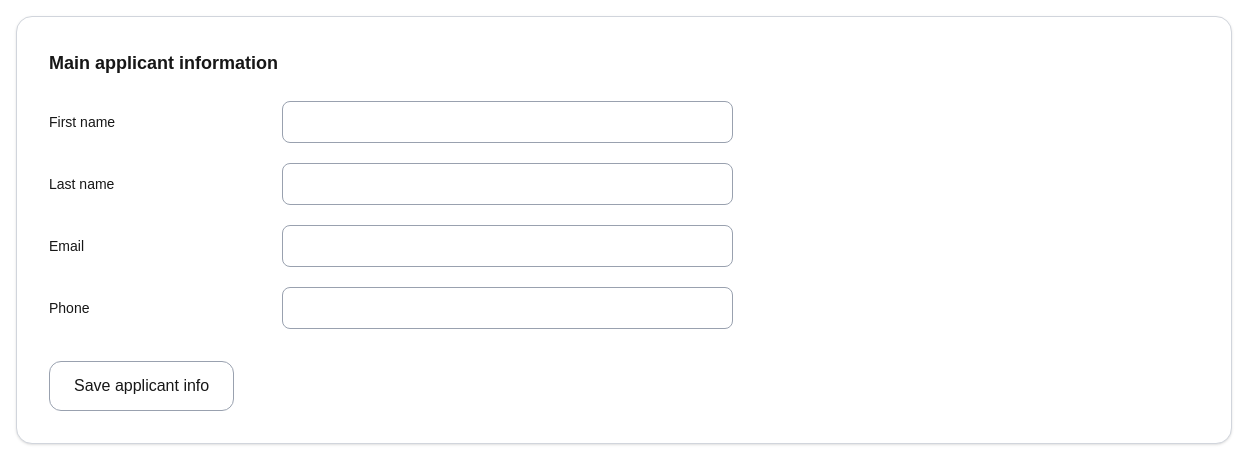
Test case: Forum component › shows validation errors when submitting empty form
Click the button "Save applicant info" at (142, 386), box [49,361,234,411]
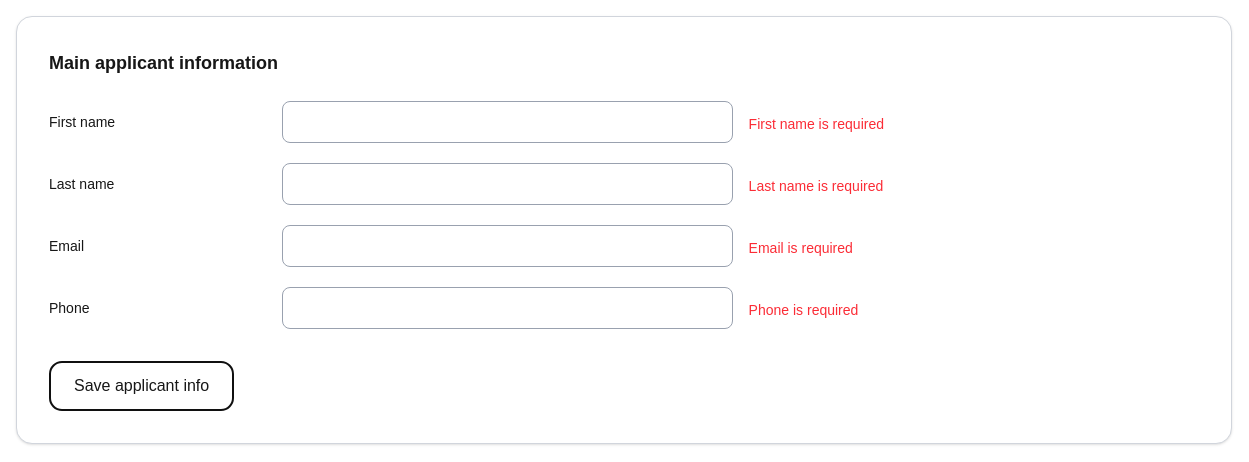
Expected: the text "First name is required" is shown, [749,116,884,132]
Expected: the text "Last name is required" is shown, [749,178,883,194]
Expected: the text "Email is required" is shown, [749,240,853,256]
